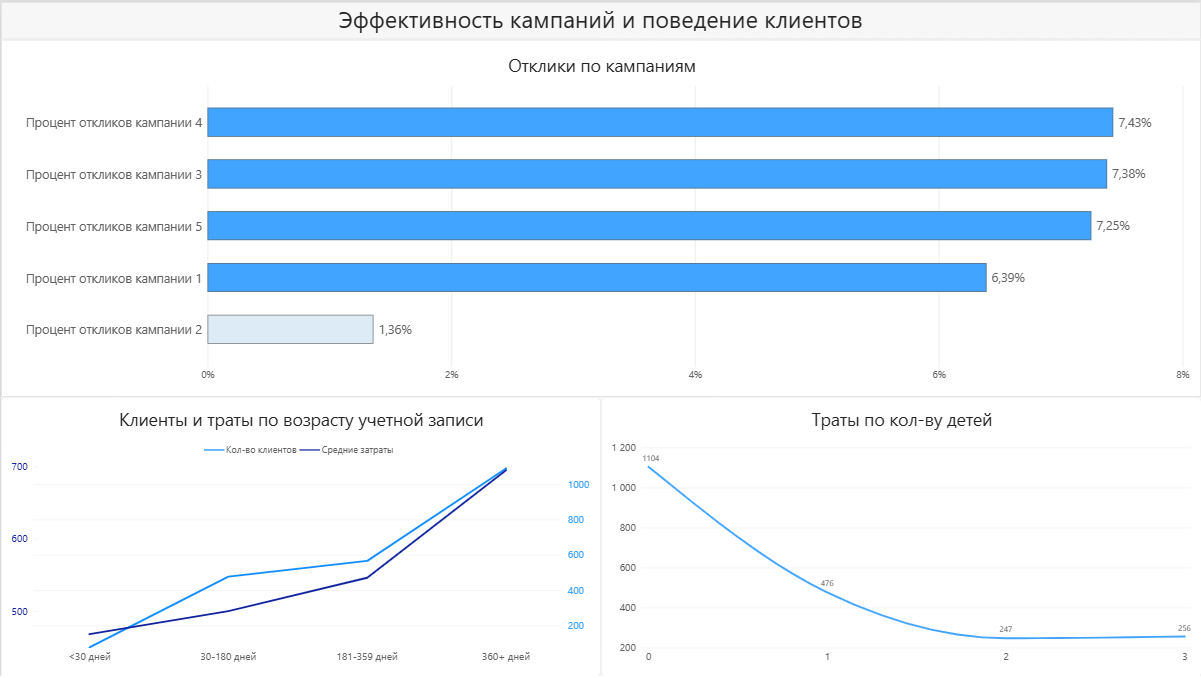

The dashboard page shown, as its layout file describes it:
{"tool":"powerbi","page":{"name":"Кампании и траты клиентов","canvas":[1920,1080],"ordinal":1},"visuals":[{"type":"textbox","box":[0,0,1920,60],"z":0},{"type":"clusteredBarChart","title":"Отклики по кампаниям","fields":{"Category":["campaign_success_rate.campaign"],"Y":["Sum(campaign_success_rate.response_rate)"]},"box":[0,59.7,1920.1,571.9],"z":1000},{"type":"lineChart","title":"Клиенты и траты по возрасту учетной записи","fields":{"Category":["spendings_by_account_age.days_registered_group"],"Y":["Sum(spendings_by_account_age.number_of_clients)"],"Y2":["Sum(spendings_by_account_age.average_spendings)"]},"box":[0,631.6,959.1,448.8],"z":2000},{"type":"lineChart","title":"Траты по кол-ву детей","fields":{"Category":["spendings_by_kids.amount_of_kids"],"Y":["Sum(spendings_by_kids.average_spendings)"]},"box":[959.1,631.6,960.9,448.8],"z":4000}]}

Visuals, with their boxes in screenshot pixels (x1, y1, x2, y2), scaled from the page's 1920x1080 canvas onto the 1201x678 screenshot:
textbox: [0, 0, 1200, 38]
"Отклики по кампаниям" clusteredBarChart: [0, 37, 1200, 397]
"Клиенты и траты по возрасту учетной записи" lineChart: [0, 397, 600, 677]
"Траты по кол-ву детей" lineChart: [600, 397, 1200, 677]
